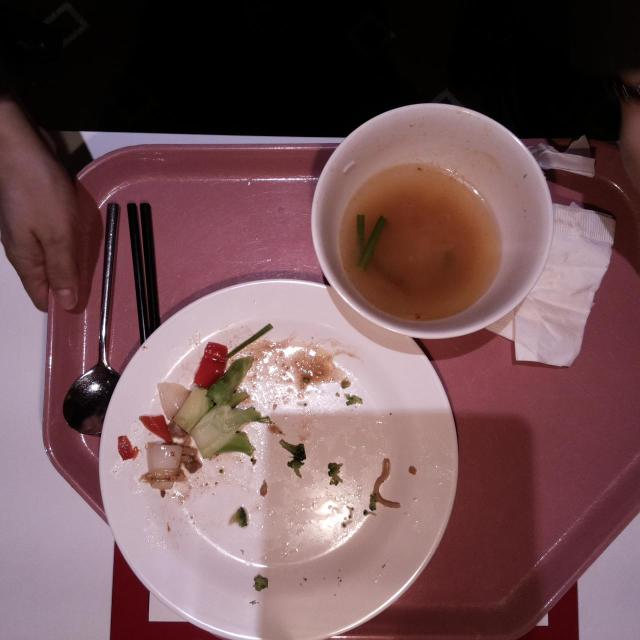Vegetable: (176, 358, 255, 458), (355, 213, 387, 269)
